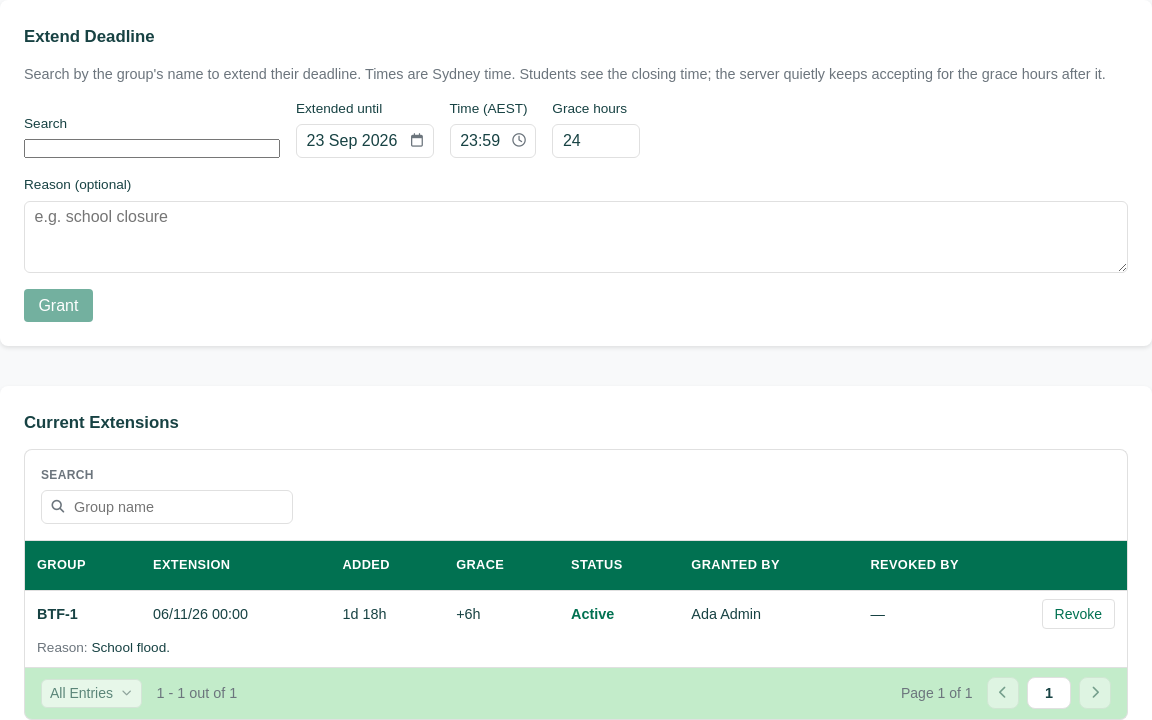
revoking › the row button asks first, naming the group and its extension
Click the button "Revoke" at [1078, 614], box x1=1042 y1=599 x2=1115 y2=629
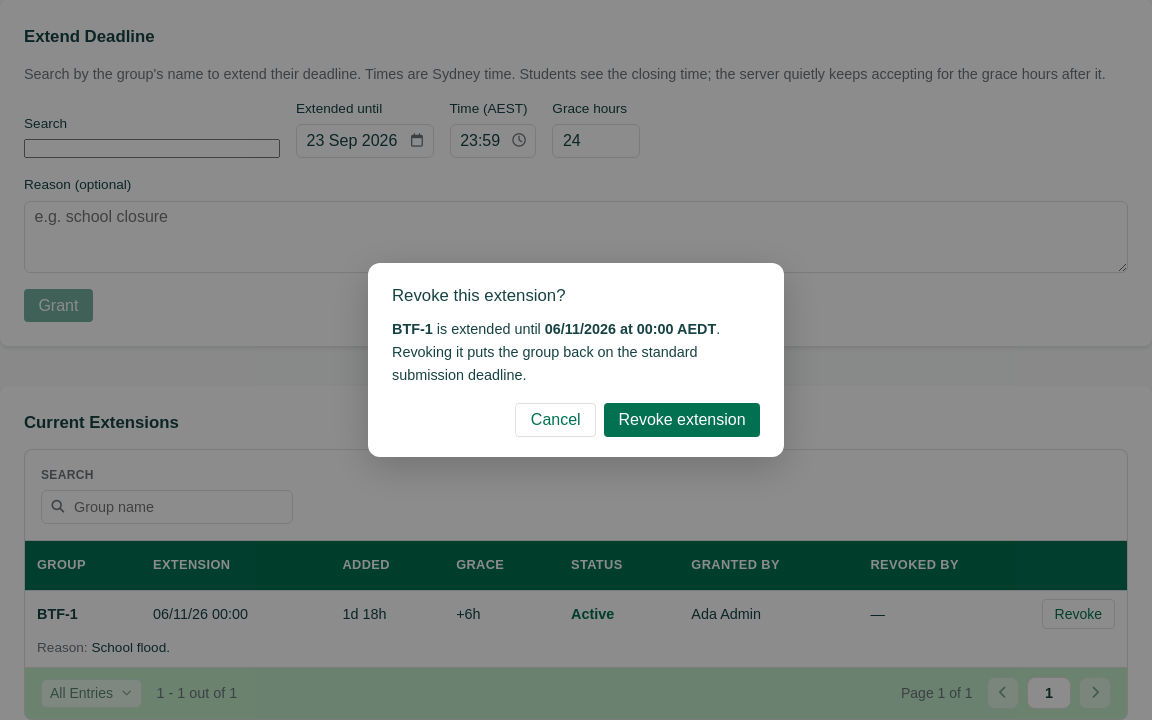
Result: the dialog with class "extensions__dialog" is shown at x1=368 y1=263 x2=784 y2=457
Result: the dialog with class "extensions__dialog" shows "Revoke this extension?" at x1=392 y1=286 x2=566 y2=305
Result: the dialog with class "extensions__dialog" shows "BTF-1" at x1=392 y1=321 x2=433 y2=337
